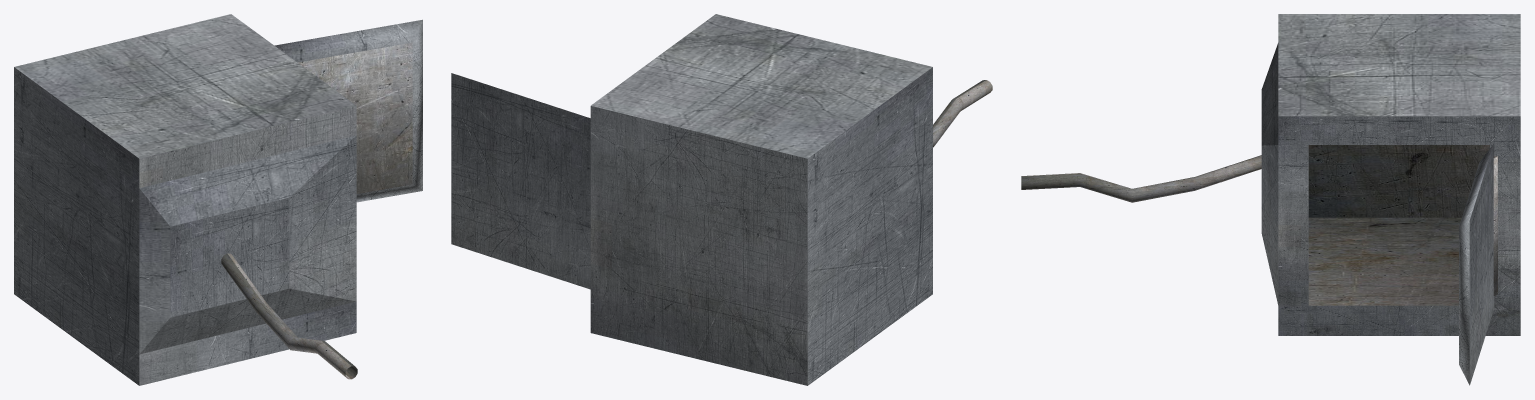
File: Safe.fbx
3 views of the same model, side by side, from view 1: azimuth 30°, elevation 25°; view 2: azimuth 150°, elevation 25°; view 3: azimuth 270°, elevation 25° (orthographic). The views are drawn at different scales.
Visible parts, largest first — view 1: Cylinder, Cube.001; view 2: Cylinder, Cube.001; view 3: Cylinder, Cube.001.
Boxes of the visible parts, x1,y1,x2,y2 form: Cylinder: (14,14,357,385); Cube.001: (274,19,422,202); Cylinder: (590,14,992,385); Cube.001: (451,73,590,289); Cylinder: (1021,14,1520,335); Cube.001: (1459,143,1497,385).
Bounding box in the file's own units: 352 × 200 × 412.
